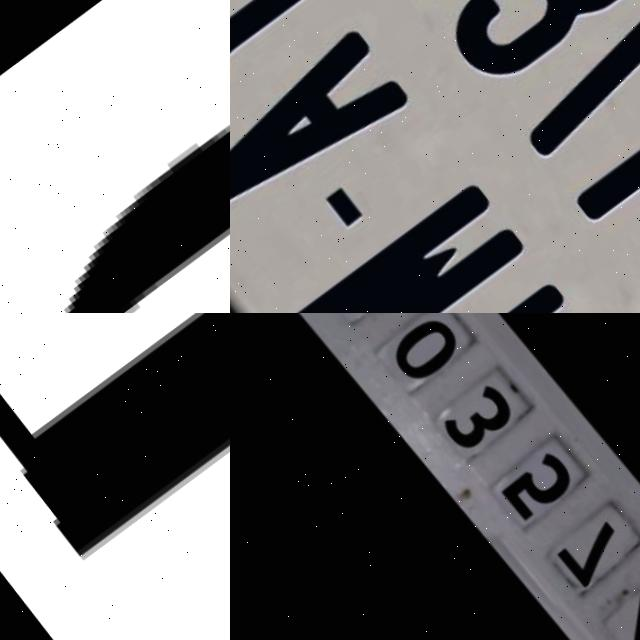0: (0, 0, 230, 313), (362, 313, 473, 398)
1: (0, 313, 230, 640)
3: (418, 0, 640, 96), (411, 367, 526, 467)
4: (487, 0, 640, 193), (581, 569, 640, 640)
5: (473, 438, 582, 535)
7: (524, 502, 638, 601)
A: (230, 26, 414, 244)
H: (338, 280, 597, 313)
L: (552, 59, 640, 271)
M: (259, 183, 526, 313)
Y: (230, 0, 351, 152)
